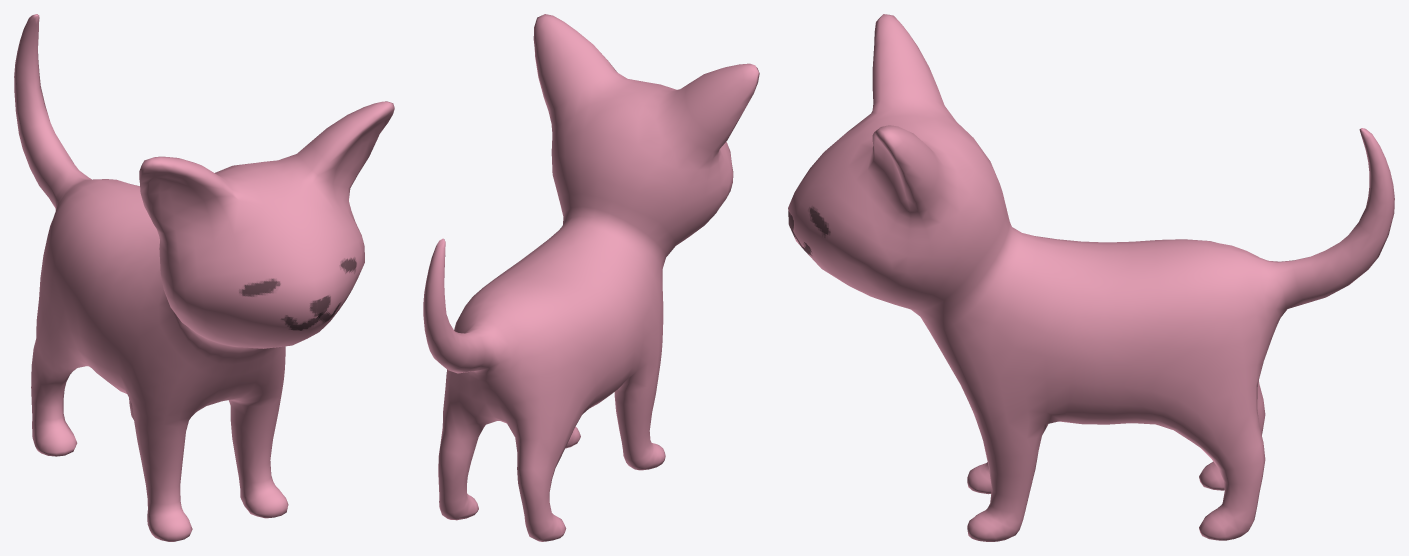
File: neko.glb
The picture shows the model from 3 angles, left to right: view 1: azimuth 30°, elevation 25°; view 2: azimuth 150°, elevation 25°; view 3: azimuth 270°, elevation 25°; orthographic projection. The views are drawn at different scales.
Parts seen in each view (by area): view 1: node_id5; view 2: node_id5; view 3: node_id5.
Boxes of the visible parts, box(x1,y1,x2,y2) form: node_id5: box(14, 14, 394, 541); node_id5: box(423, 14, 759, 541); node_id5: box(788, 14, 1394, 541).
Bounding box in the file's own units: 0.3068 × 0.5019 × 0.6284.
1 material, 1 textured.
